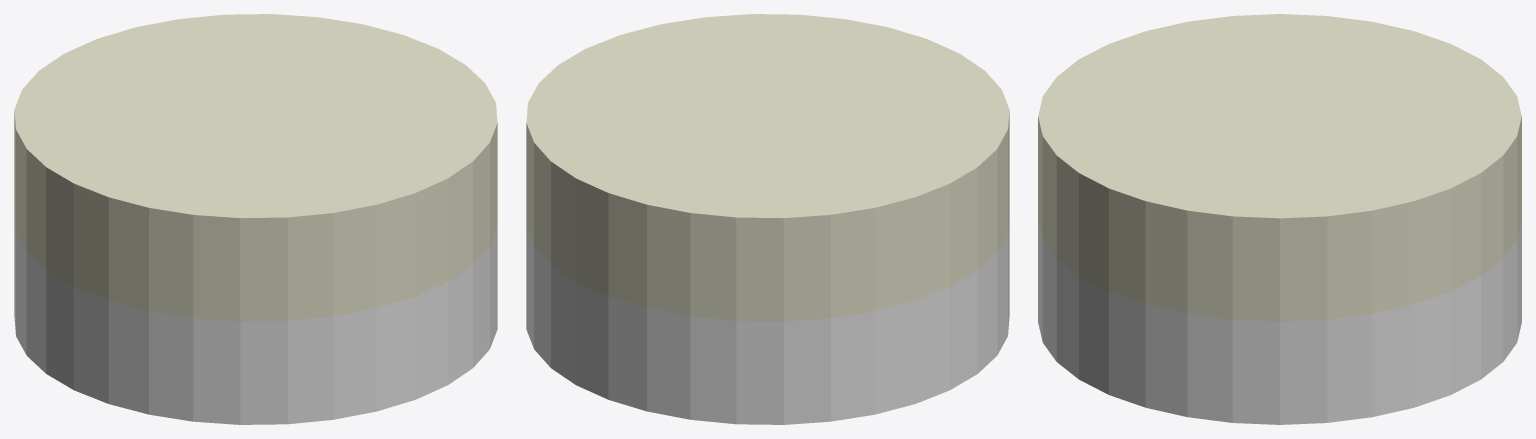
The model's file is Pawn.fbx.
3 renders of one model, left to right at view 1: azimuth 30°, elevation 25°; view 2: azimuth 150°, elevation 25°; view 3: azimuth 270°, elevation 25°, orthographic.
Parts seen in each view (by area): view 1: Cylinder.016; view 2: Cylinder.016; view 3: Cylinder.016.
Boxes of the visible parts, box(x1,y1,x2,y2) form: Cylinder.016: box(14, 14, 497, 424); Cylinder.016: box(526, 14, 1009, 424); Cylinder.016: box(1038, 14, 1521, 424).
Size of the model in its own units: 0.1605 by 0.0756 by 0.1605.
